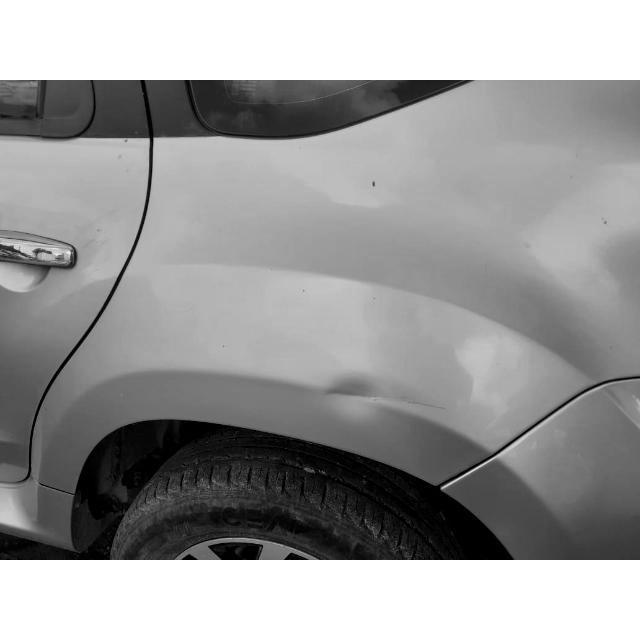quaterpanel-dent: (142, 161, 632, 475)
